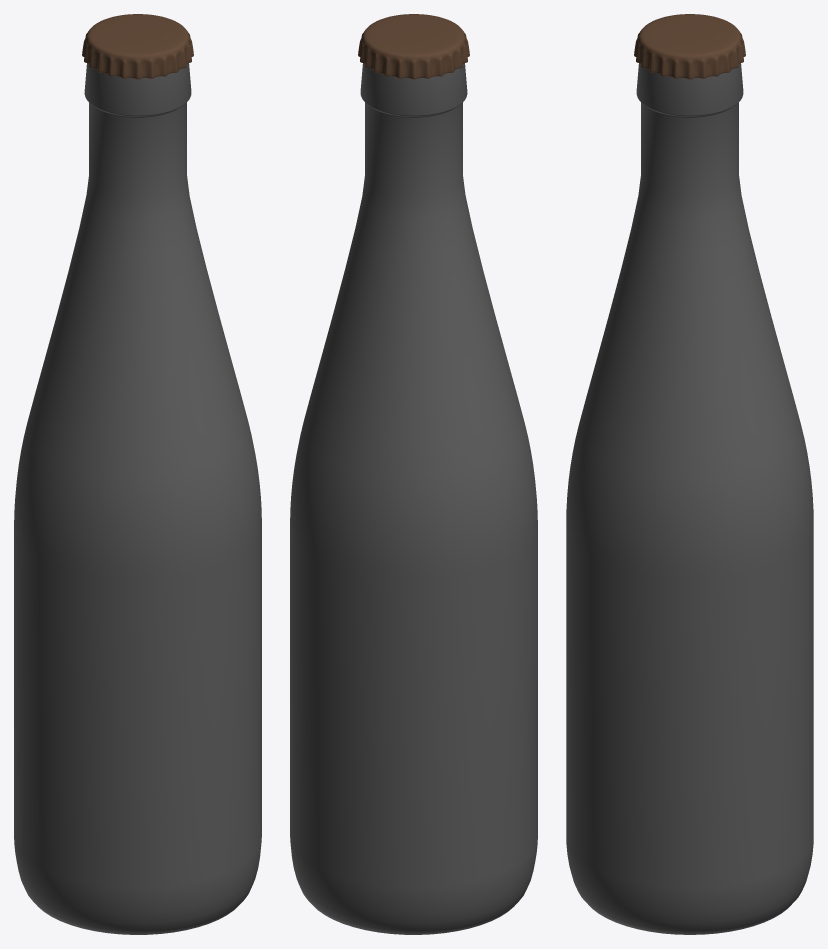
3 renders of one model, left to right at view 1: azimuth 30°, elevation 25°; view 2: azimuth 150°, elevation 25°; view 3: azimuth 270°, elevation 25°, orthographic.
Visible parts, largest first — view 1: beer_3_1_bottle, beer_3_1_cap_01; view 2: beer_3_1_bottle, beer_3_1_cap_01; view 3: beer_3_1_bottle, beer_3_1_cap_01.
Boxes of the visible parts, bbox=[...] form: beer_3_1_bottle: bbox=[14, 63, 261, 934]; beer_3_1_cap_01: bbox=[82, 14, 193, 79]; beer_3_1_bottle: bbox=[290, 63, 537, 934]; beer_3_1_cap_01: bbox=[358, 14, 469, 79]; beer_3_1_bottle: bbox=[566, 63, 813, 934]; beer_3_1_cap_01: bbox=[634, 14, 745, 79].
Size of the model in its own units: 5.85 by 22.32 by 5.84.
